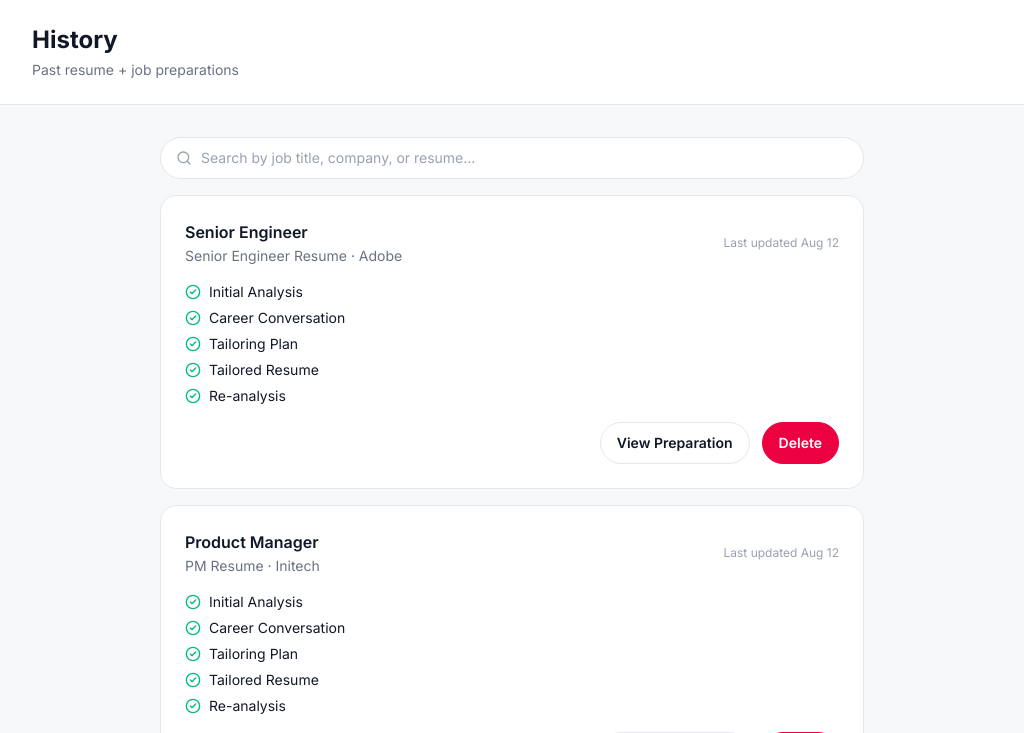
Test: HistoryPage › searches server-side (debounced) by job title, company, or resume name
Check: the heading "Senior Engineer" is shown, box x1=185 y1=222 x2=308 y2=242
Check: the heading "Product Manager" is shown, box x1=185 y1=530 x2=320 y2=554
Type "initech" into the field named "search job preparations".
click(512, 158); type("initech")  # box x1=160 y1=137 x2=864 y2=179
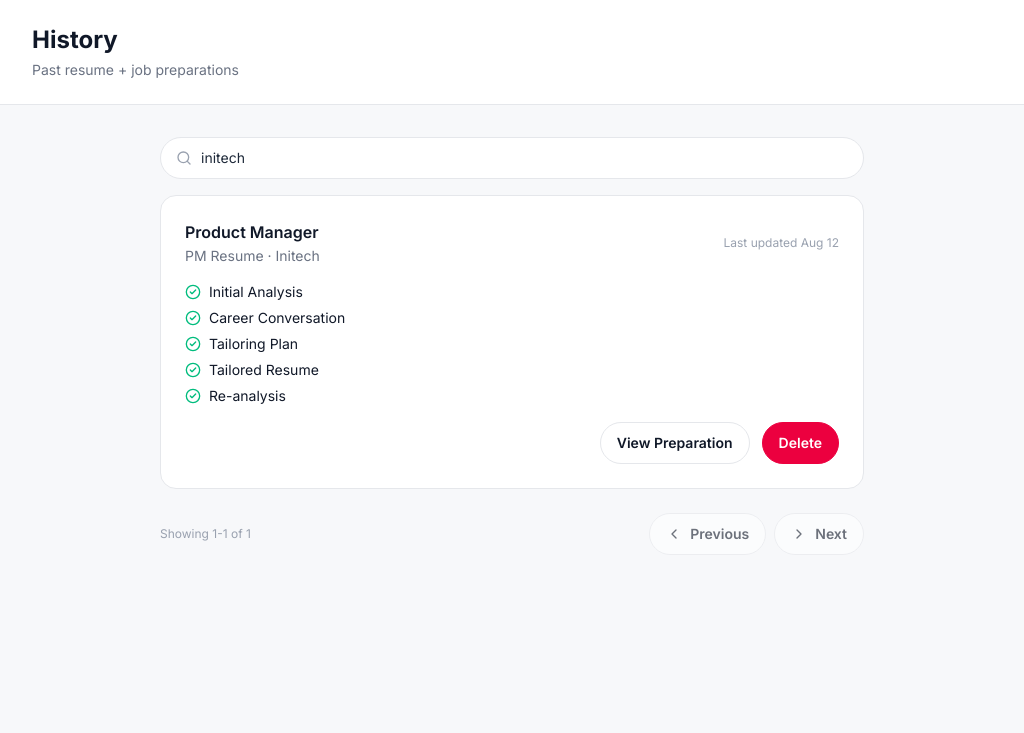
Check: the heading "Product Manager" is shown, box x1=185 y1=220 x2=320 y2=244
Check: the heading "Senior Engineer" is gone
